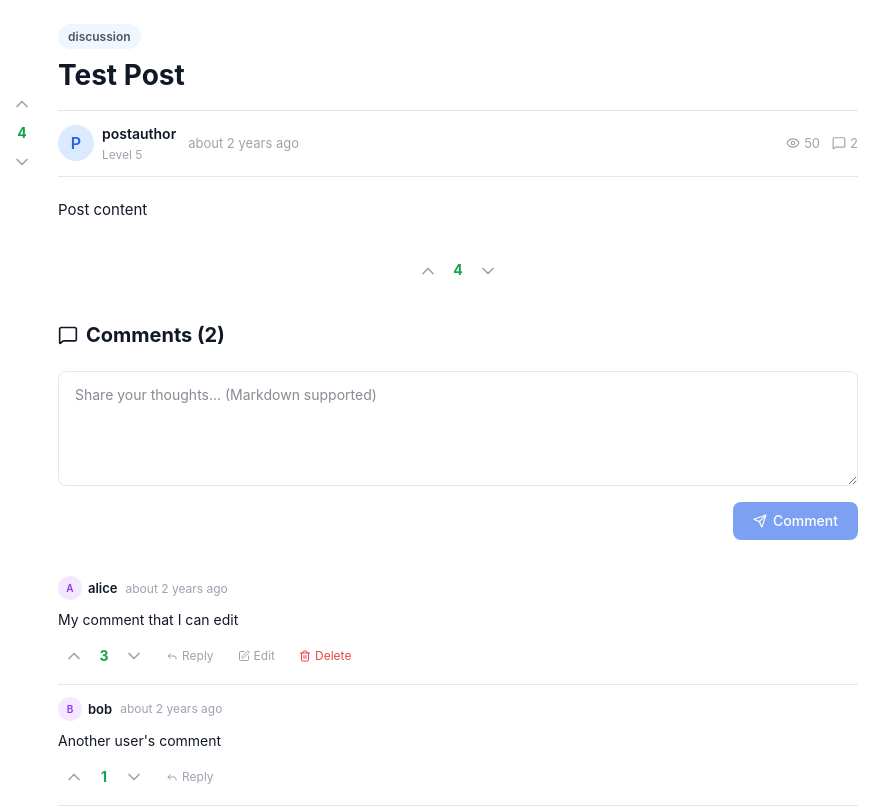
Test: PostDetailPage - Comment Editing › Edit mode › hides edit mode and returns to normal view on Cancel
Click the button "Edit": (256, 656) [230,642,283,670]
(page scrolled)
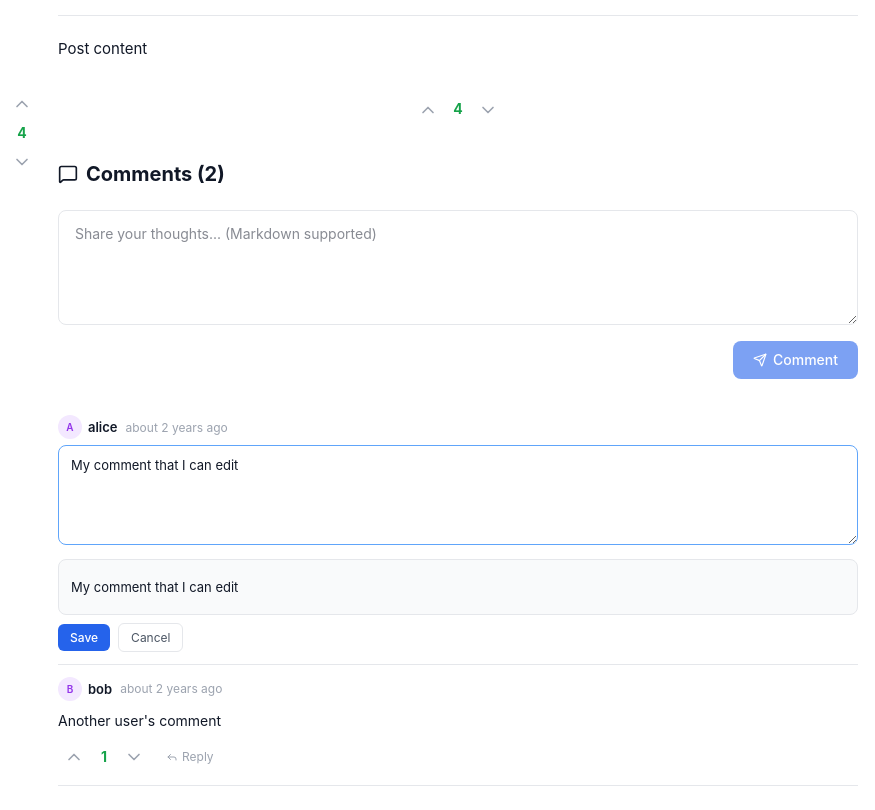
Expected: the button "Save" is shown, [58,624,110,651]
Click the button "Cancel": (151, 638) [118,623,184,652]
(page scrolled)
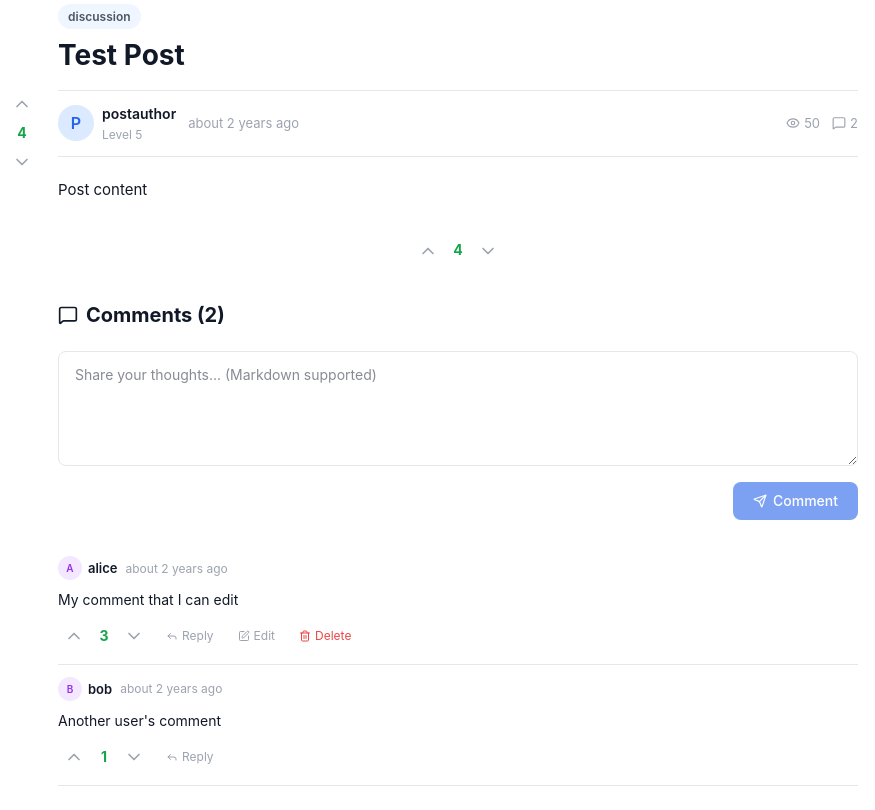
Expected: the button "Save" is gone
Expected: the button "Edit" is shown, [230,622,283,650]
